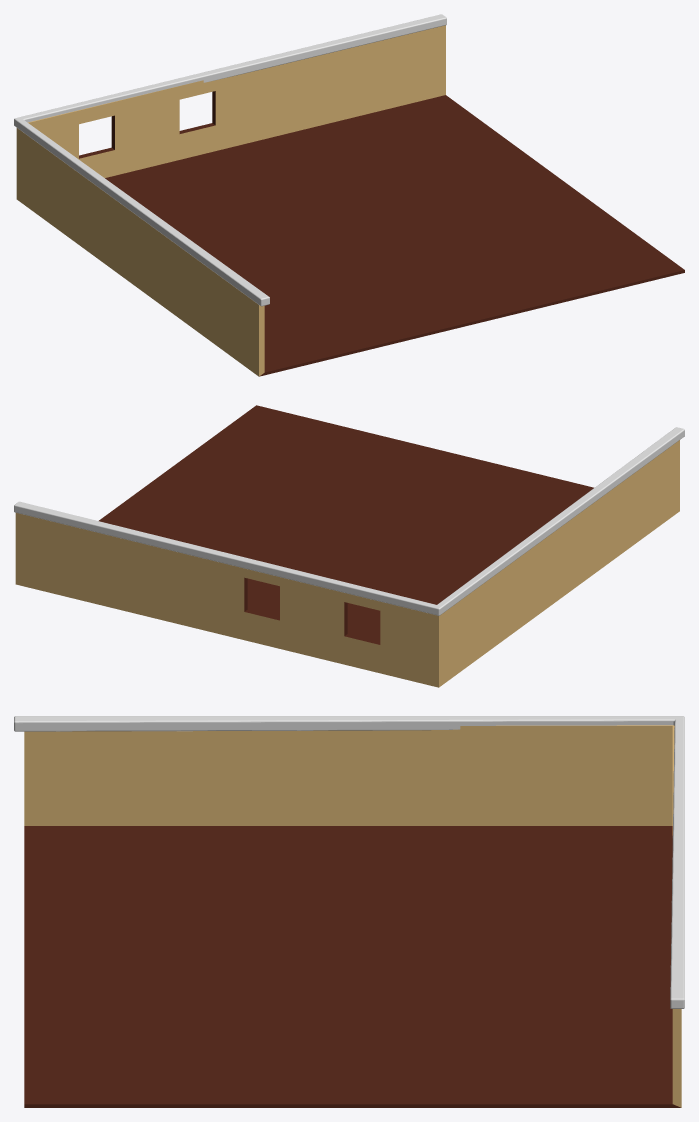
The model's file is CoffeeShop.fbx.
The picture shows the model from 3 angles, top to bottom: view 1: azimuth 30°, elevation 25°; view 2: azimuth 150°, elevation 25°; view 3: azimuth 270°, elevation 25°; orthographic projection. The views are drawn at different scales.
Visible parts, largest first — view 1: Cube, Cube.003; view 2: Cube, Cube.003; view 3: Cube, Cube.003.
Boxes of the visible parts, x1,y1,x2,y2 form: Cube: (16, 25, 684, 376); Cube.003: (14, 14, 446, 306); Cube: (15, 405, 679, 687); Cube.003: (14, 427, 684, 615); Cube: (24, 725, 681, 1107); Cube.003: (14, 716, 684, 1008).
Size of the model in its own units: 7025 by 1264 by 7025.
